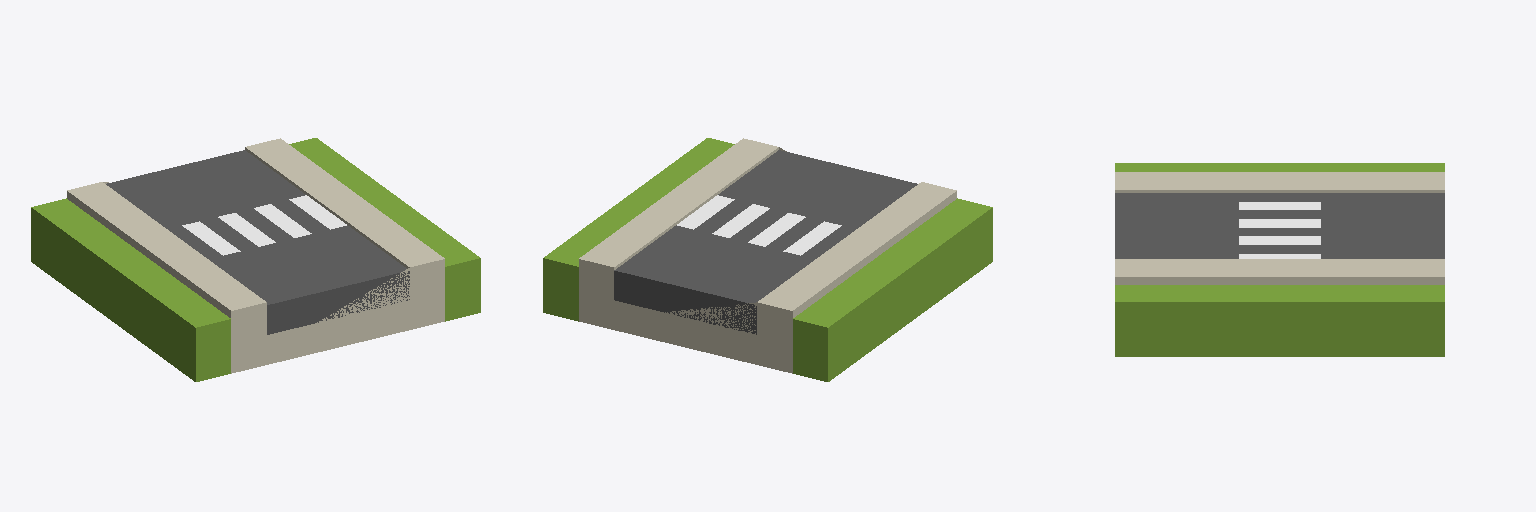
File: roadTile_025.obj
3 renders of one model, left to right at view 1: azimuth 30°, elevation 25°; view 2: azimuth 150°, elevation 25°; view 3: azimuth 270°, elevation 25°, orthographic.
Parts seen in each view (by area): view 1: Mesh1_Group1_Model.004; view 2: Mesh1_Group1_Model.004; view 3: Mesh1_Group1_Model.004.
Boxes of the visible parts, <box> form: Mesh1_Group1_Model.004: <box>31,138,480,381</box>; Mesh1_Group1_Model.004: <box>543,138,992,381</box>; Mesh1_Group1_Model.004: <box>1115,163,1444,356</box>.
Size of the model in its own units: 1.08 by 0.2268 by 1.08.